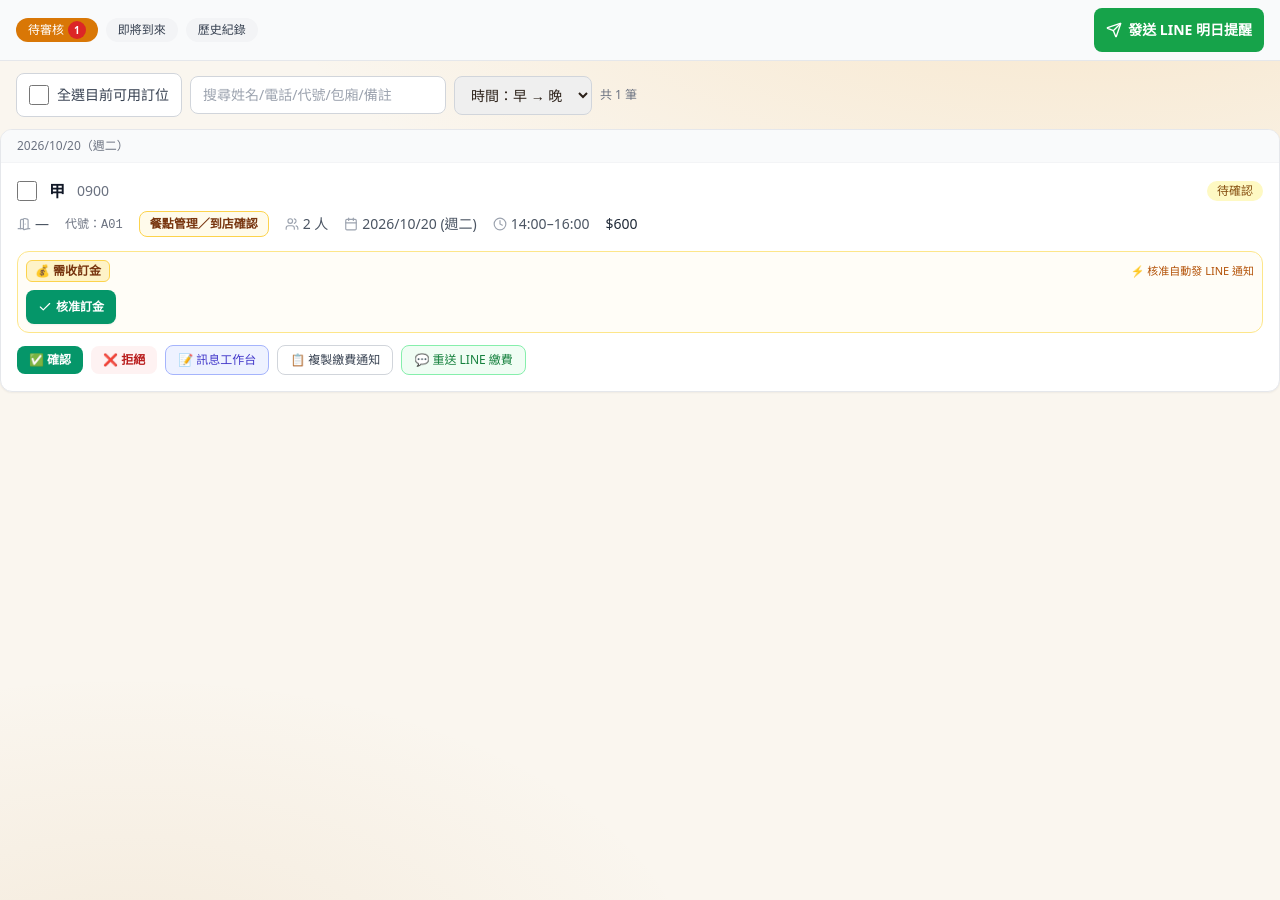
Test: message workbench binding compatibility › shows the correct state across list contracts
Expected: the checkbox named "選取 甲 A01" is shown, [17, 181, 37, 201]
Click the button "📝 訊息工作台": [217, 360] box [165, 345, 269, 375]
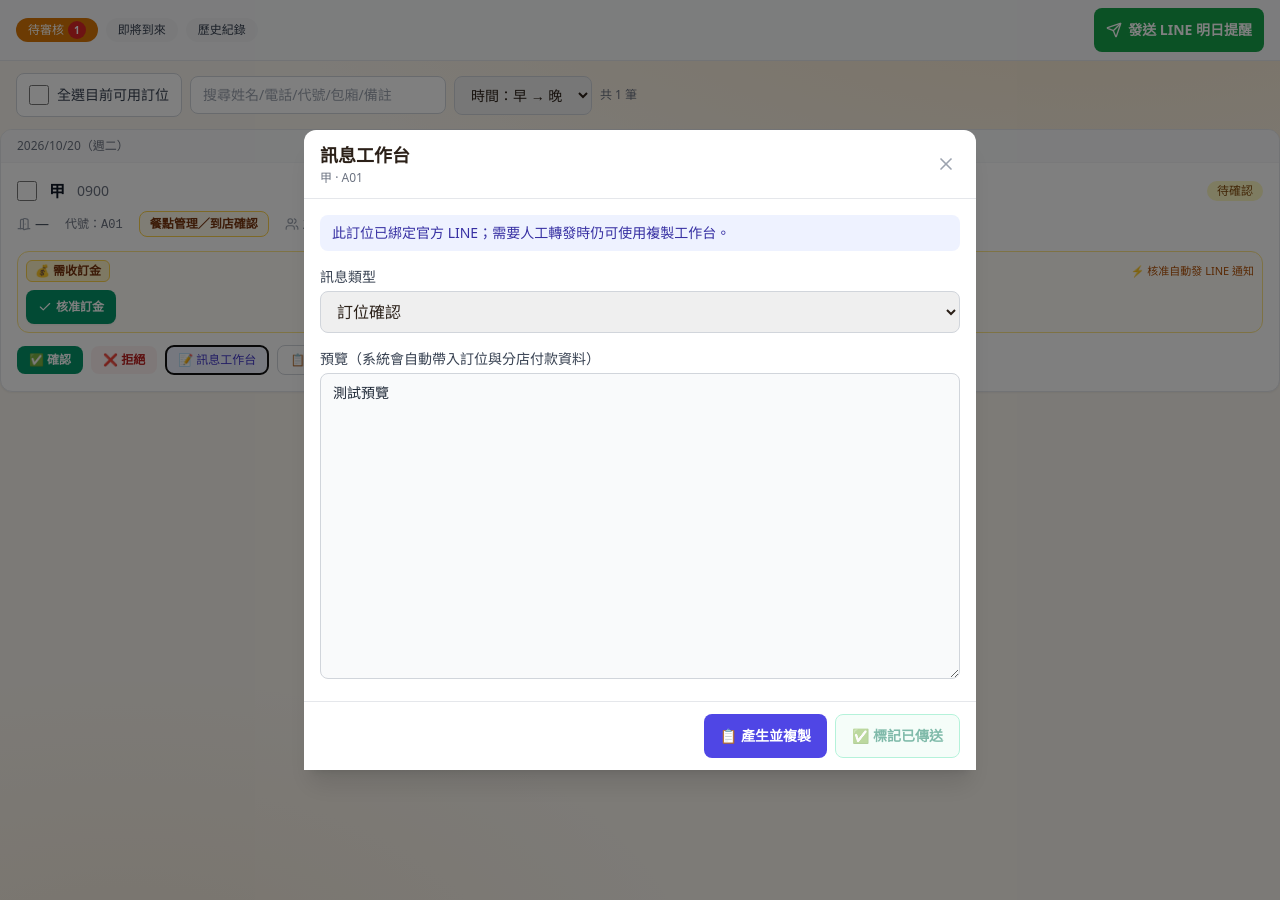
Now the text "此訂位已綁定官方 LINE；需要人工轉發時仍可使用複製工作台。" is shown, box [320, 215, 960, 251]
